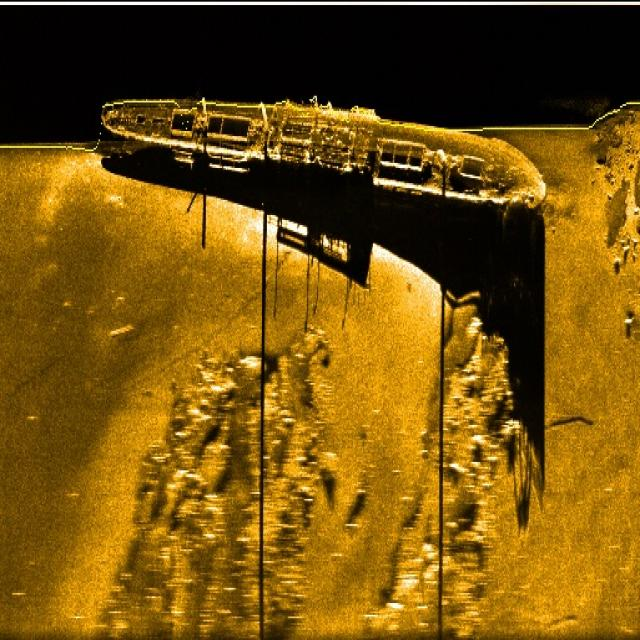ship: (93, 87, 554, 217)
